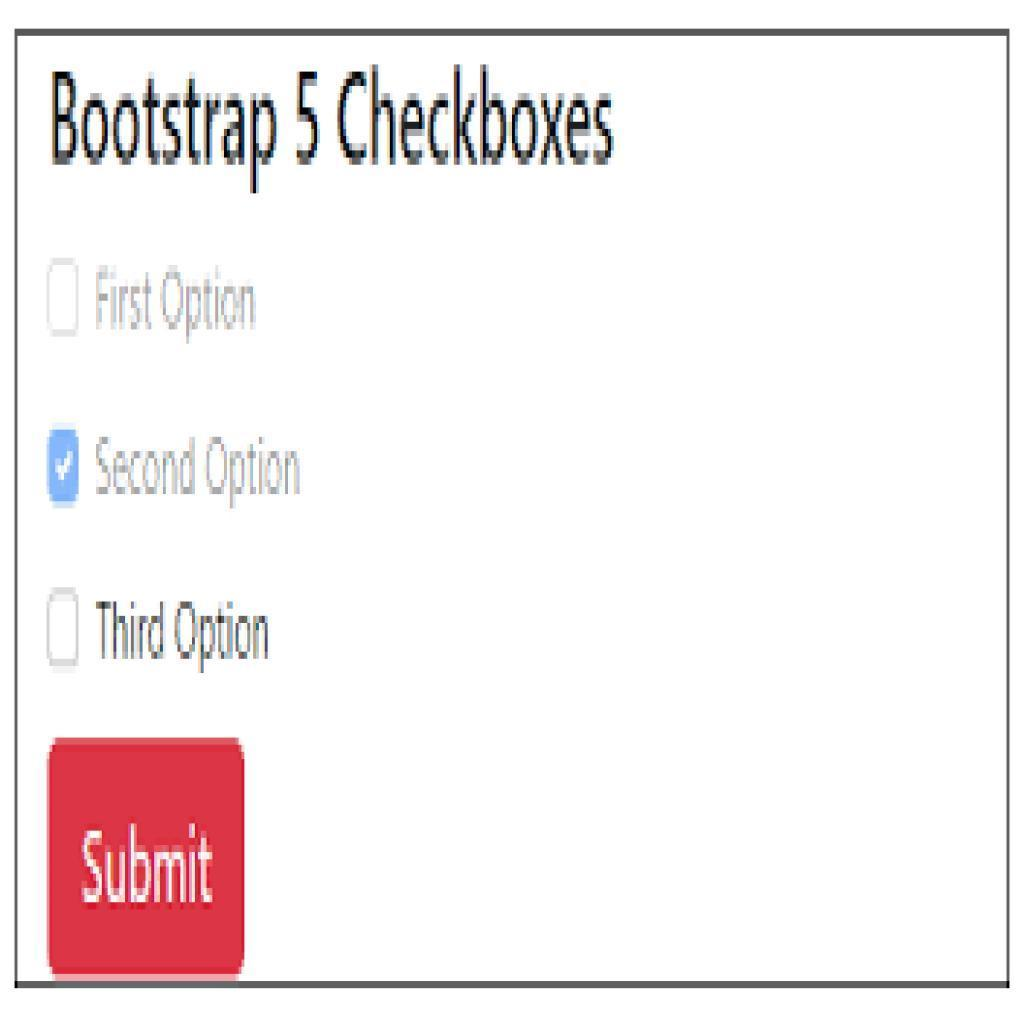button: (47, 739, 246, 977)
checkbox: (48, 261, 83, 338), (48, 431, 83, 504), (47, 592, 76, 665)
